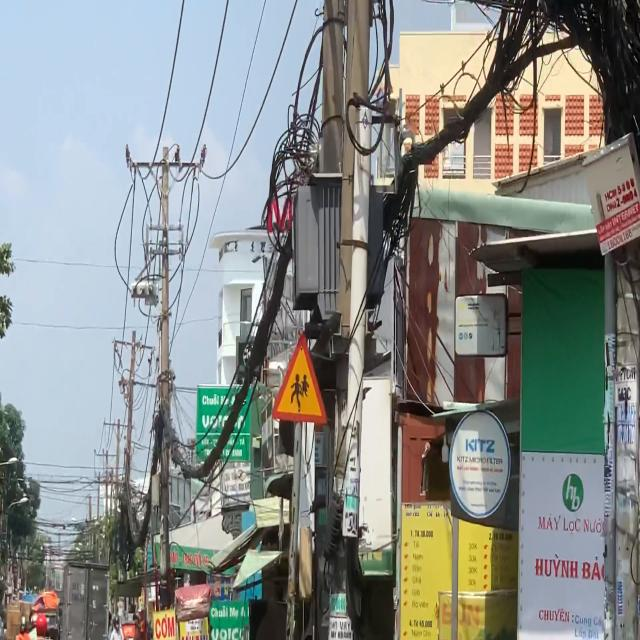Nguy hiem: (271, 333, 328, 426)
